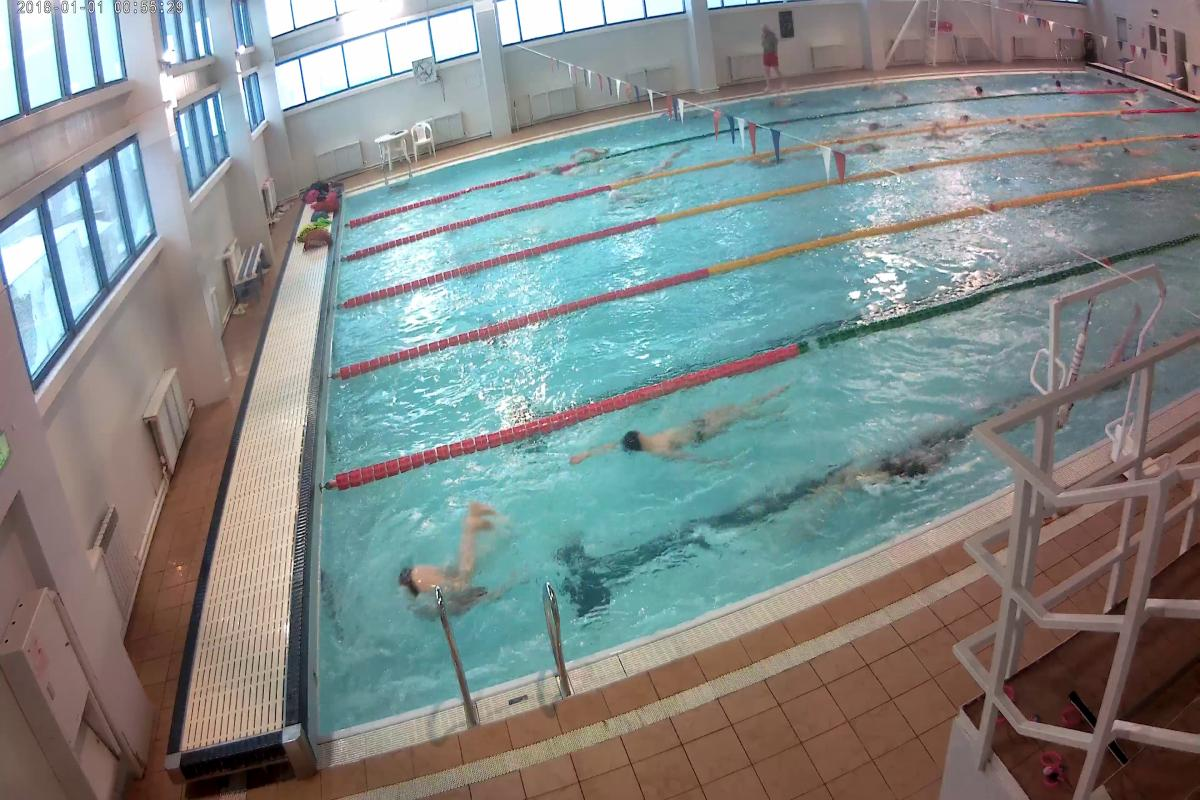swimmer: (400, 524, 512, 596), (830, 443, 992, 486), (594, 404, 813, 431)
